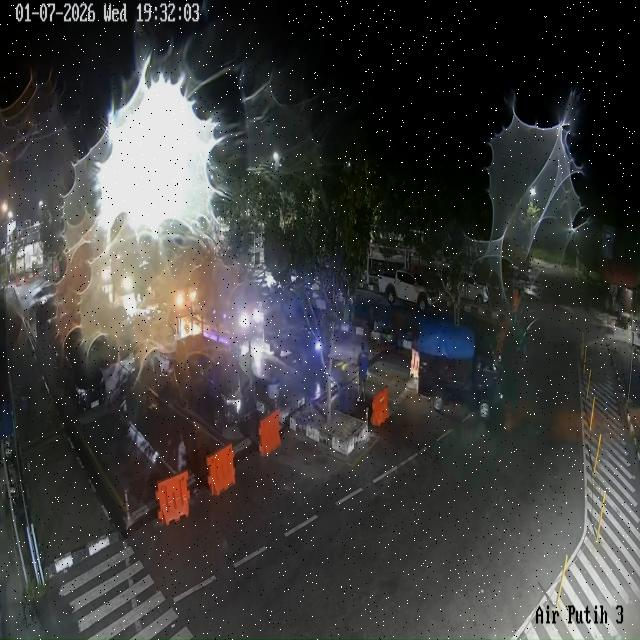Golongan IVA: (175, 335, 257, 434), (132, 308, 178, 378)
Golongan IVB: (378, 270, 439, 312)
